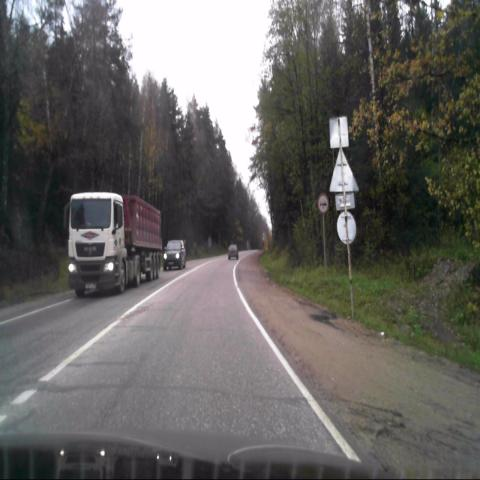3_20: (317, 193, 329, 214)
